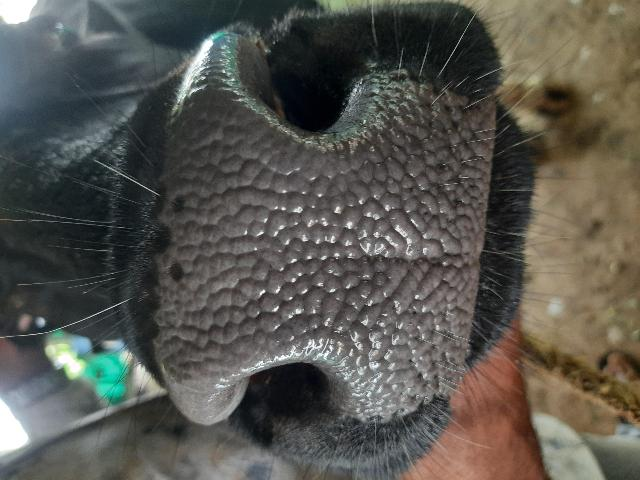Muzzle: (178, 123, 478, 359)
